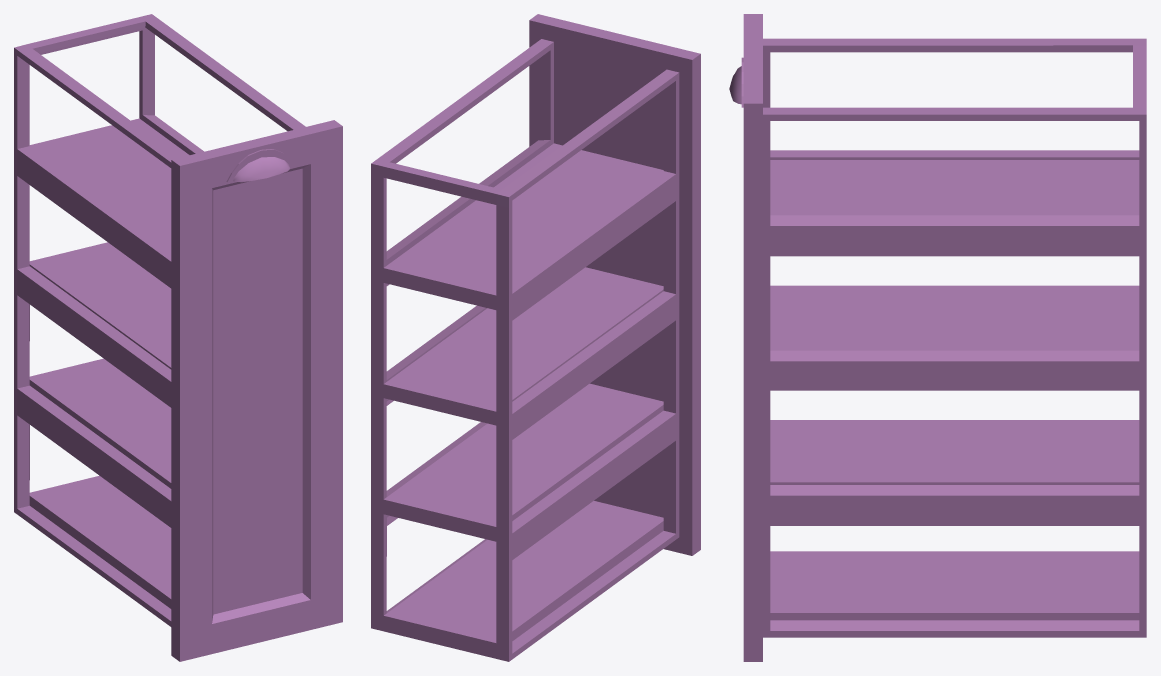
File: GRDTiroireMeubleCuisine.fbx
The picture shows the model from 3 angles, left to right: view 1: azimuth 30°, elevation 25°; view 2: azimuth 150°, elevation 25°; view 3: azimuth 270°, elevation 25°; orthographic projection. The views are drawn at different scales.
Visible parts, largest first — view 1: GRDTiroireMeubleCuisine; view 2: GRDTiroireMeubleCuisine; view 3: GRDTiroireMeubleCuisine.
Part boxes in pixels (x1=…): GRDTiroireMeubleCuisine: x1=14, y1=14, x2=342, y2=661; GRDTiroireMeubleCuisine: x1=371, y1=14, x2=700, y2=661; GRDTiroireMeubleCuisine: x1=729, y1=14, x2=1146, y2=661.
Size of the model in its own units: 27.62 by 80.33 by 54.41.
